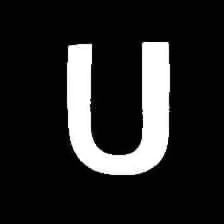LTR_U: (56, 17, 194, 191)
